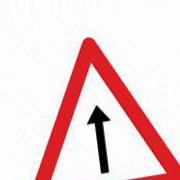forward: (32, 36, 180, 180)
